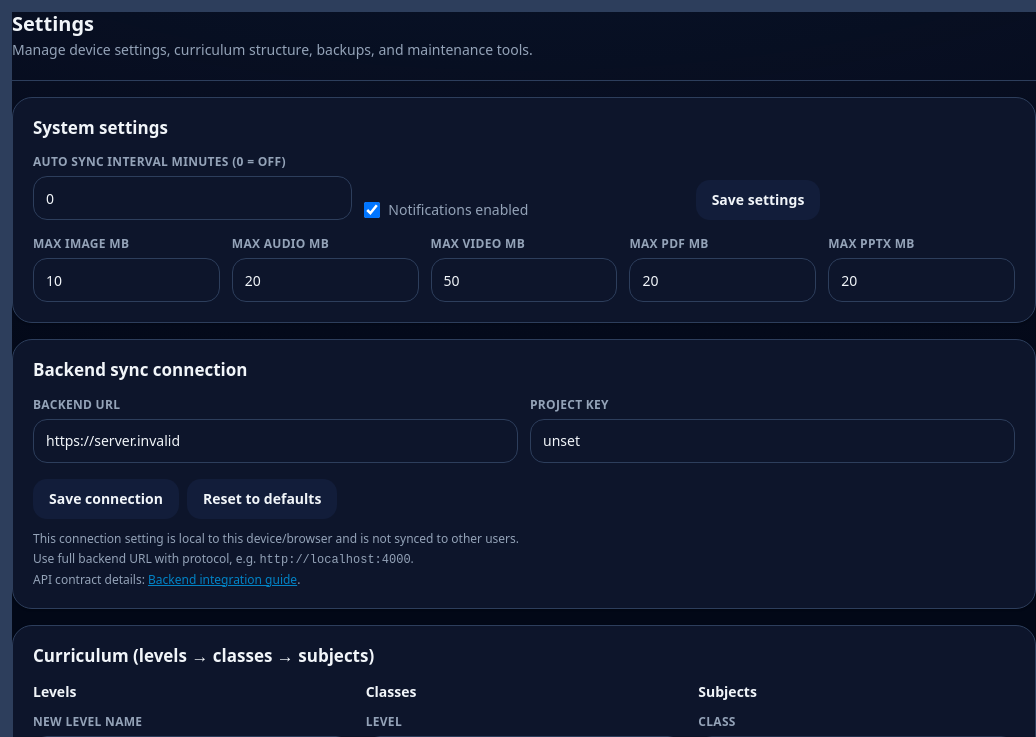
Scenario: AdminSettingsPage backend sync connection › rejects root-relative backend URL and accepts absolute URL
Expected: the text "Backend sync connection" is shown, [33,360,248,381]
Replace the text in the field labelled "Backend URL" with "/api" at (276, 441), box [33,419,518,463]
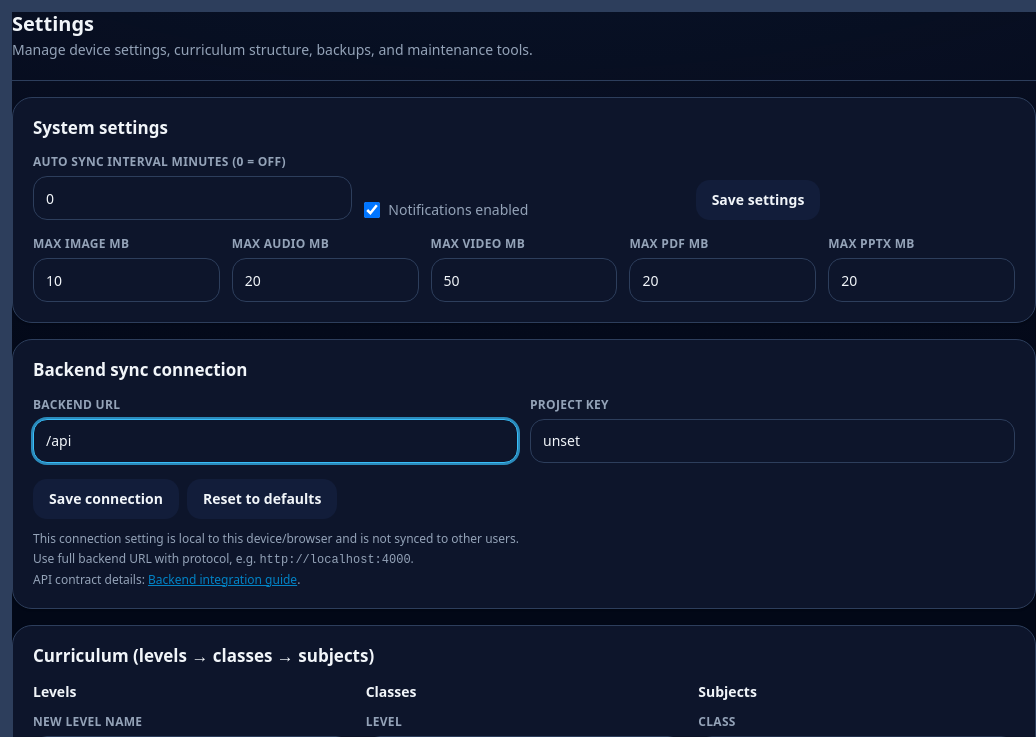
Click the button "Save connection" at (106, 499), box [33,479,179,519]
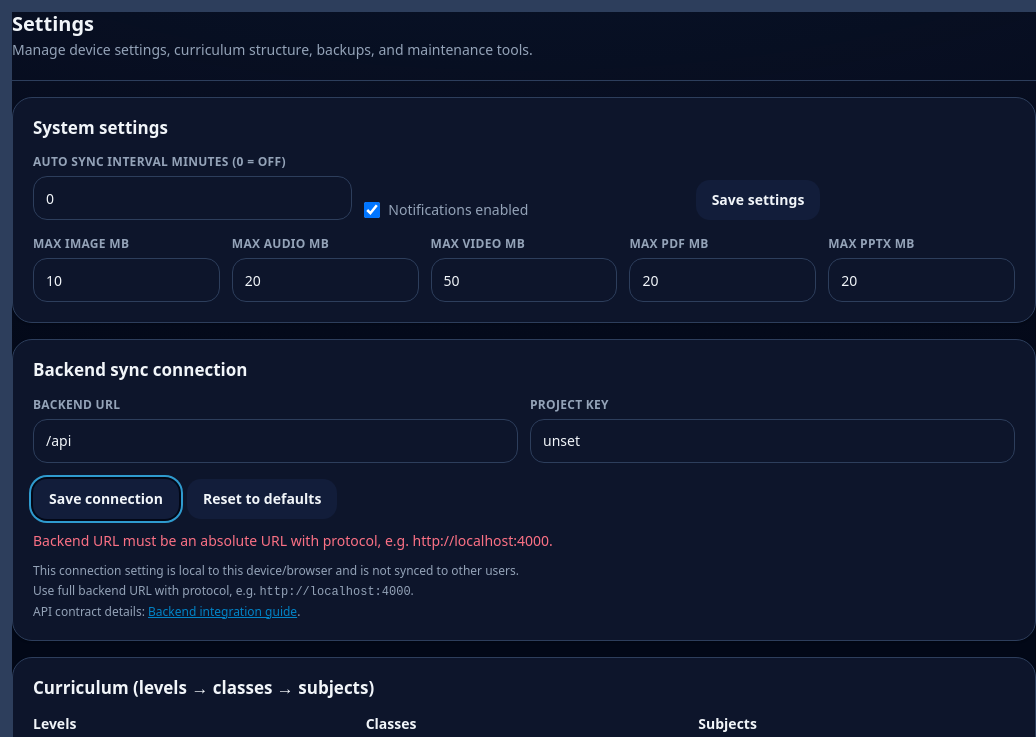
Expected: the text "Backend URL must be an absolute URL with protocol, e.g. http://localhost:4000." is shown, [33,531,553,550]
Replace the text in the field labelled "Backend URL" with "http://localhost:4000/customapi" at (276, 441), box [33,419,518,463]
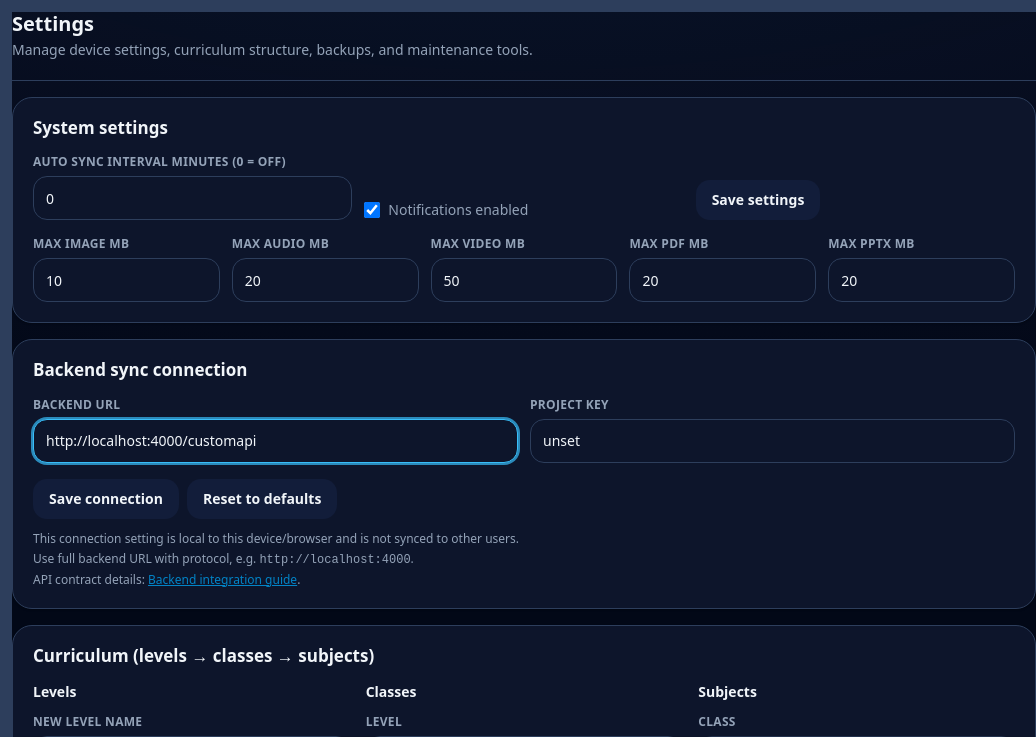
Click the button "Save connection" at (106, 499), box [33,479,179,519]
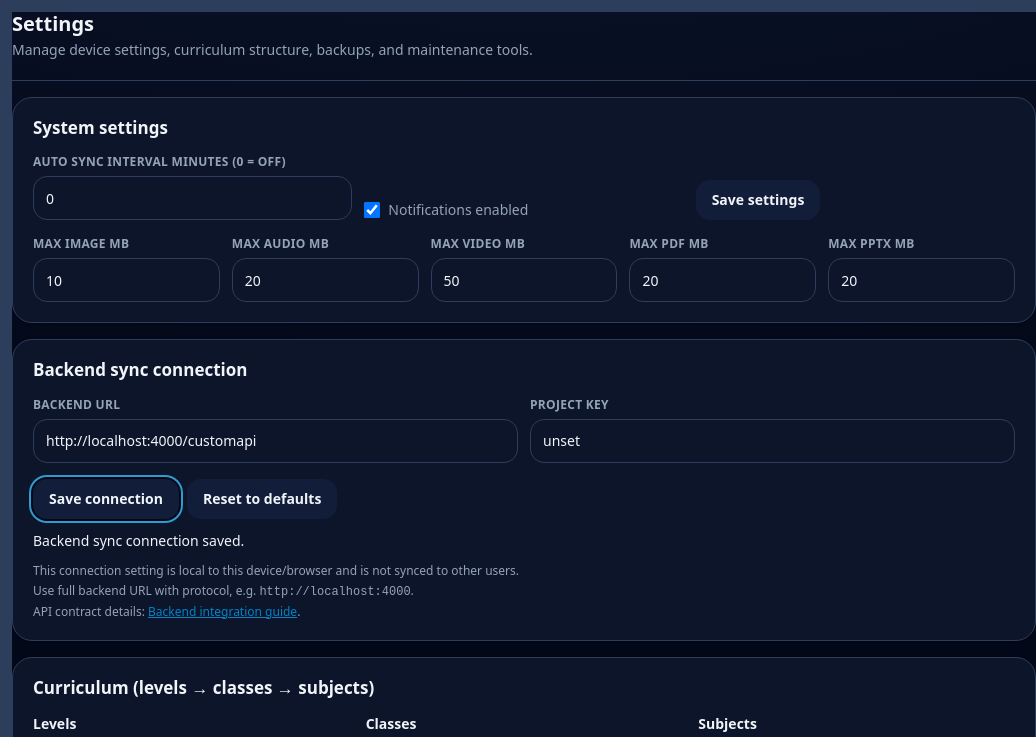
Expected: the text "Backend sync connection saved." is shown, [33,531,244,550]
